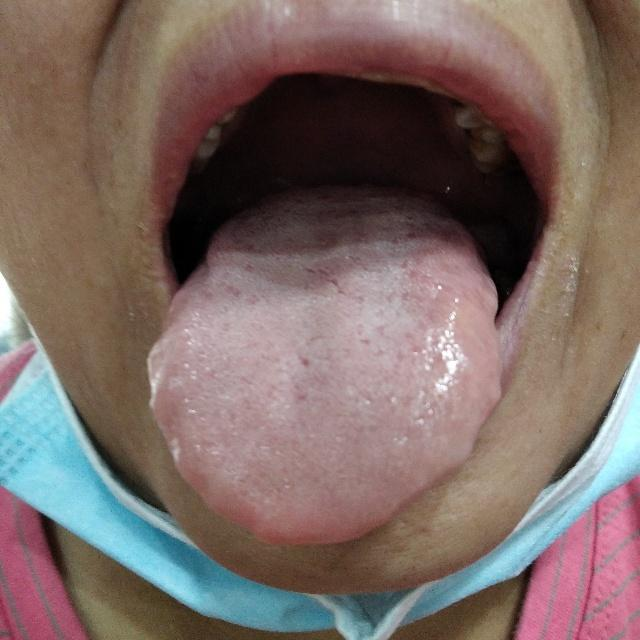baitaishe: (146, 190, 504, 548)
chihenshe: (146, 344, 185, 473)
